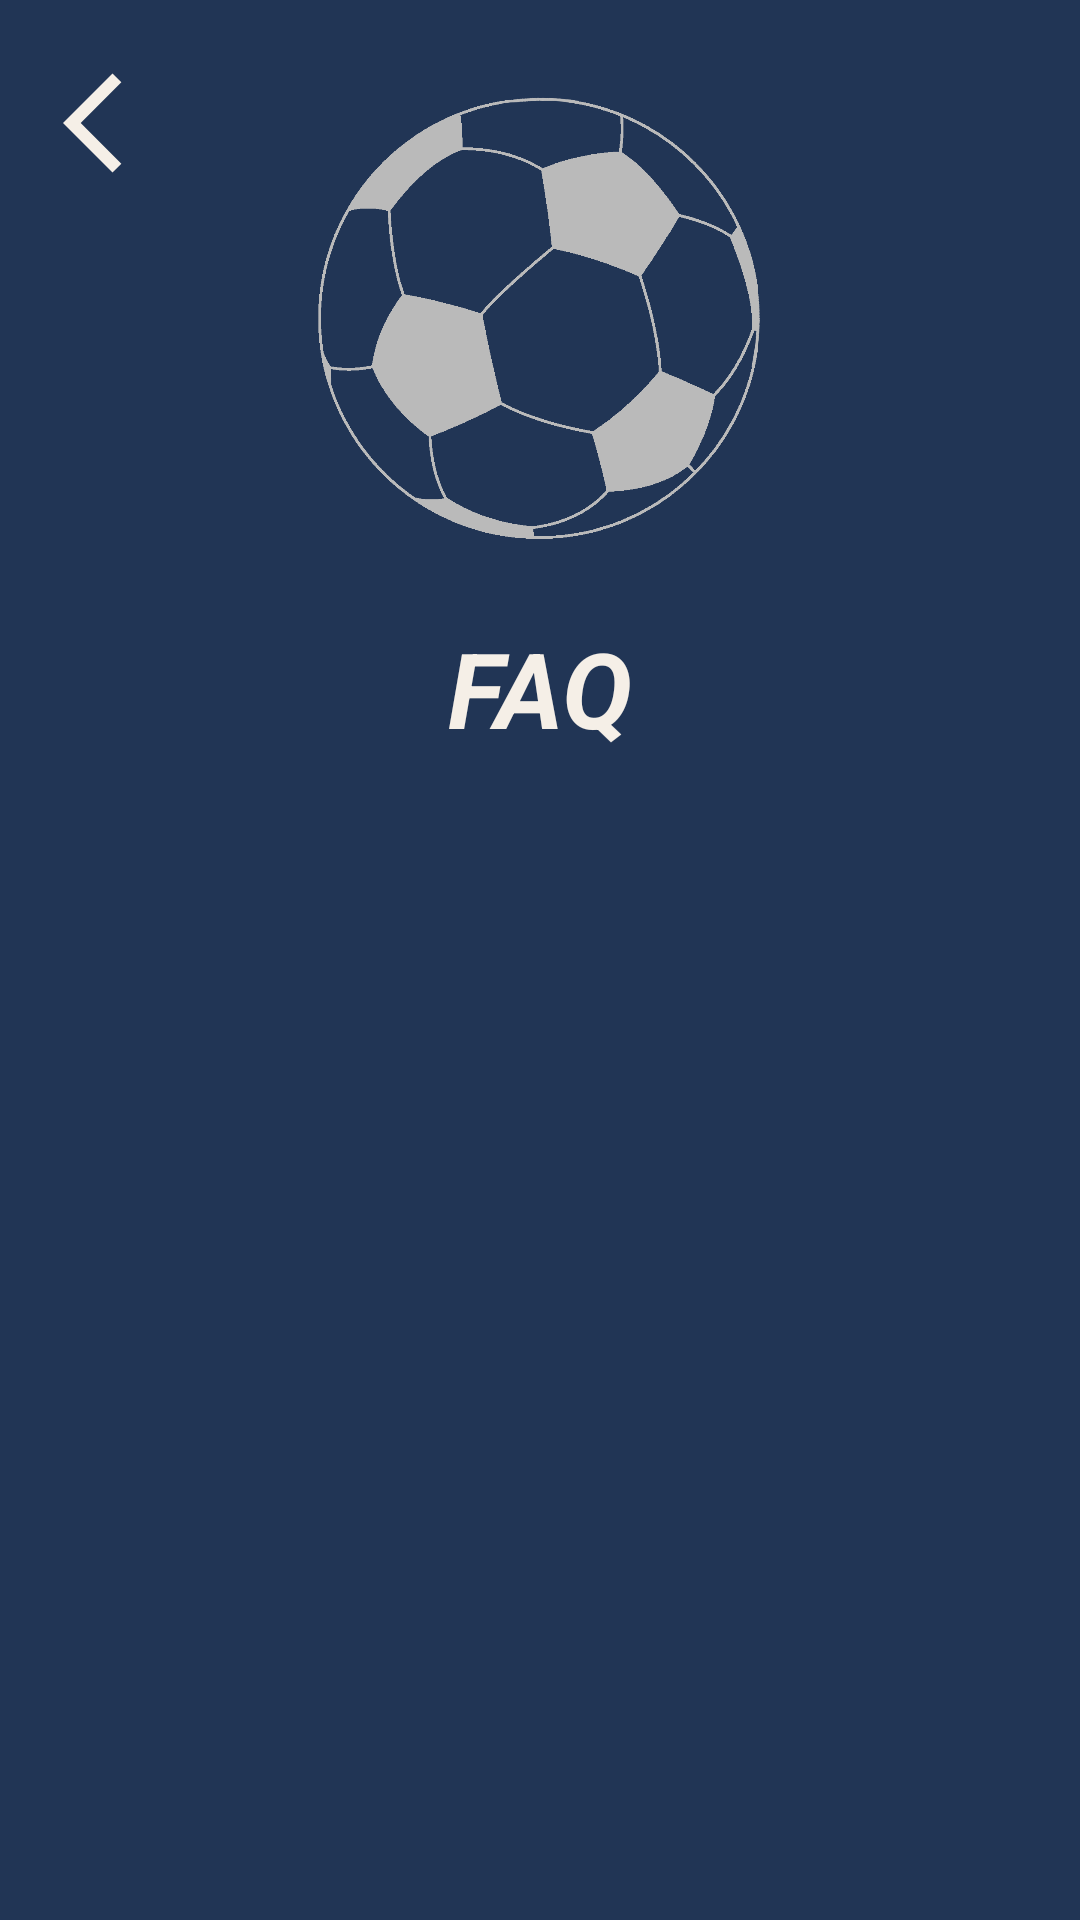

Icon click points for this 1080px×1920px phone screenshot, format point (x, y):
arrow back: point (92, 123)
